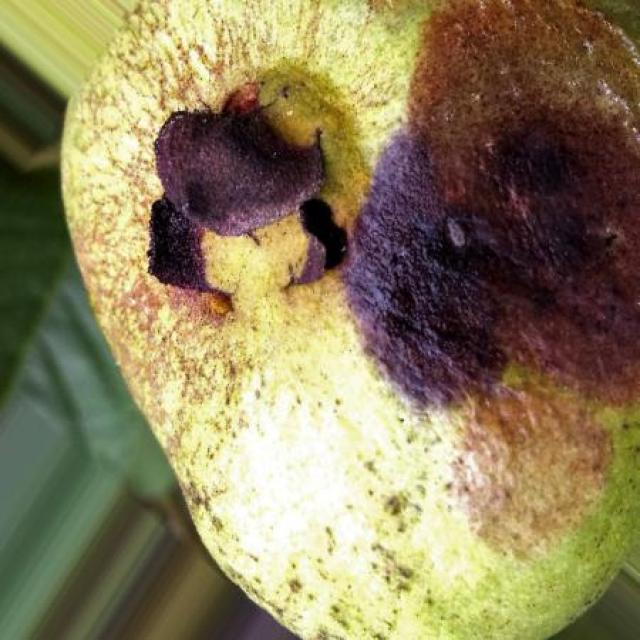Styler and Root: (62, 0, 640, 640)
